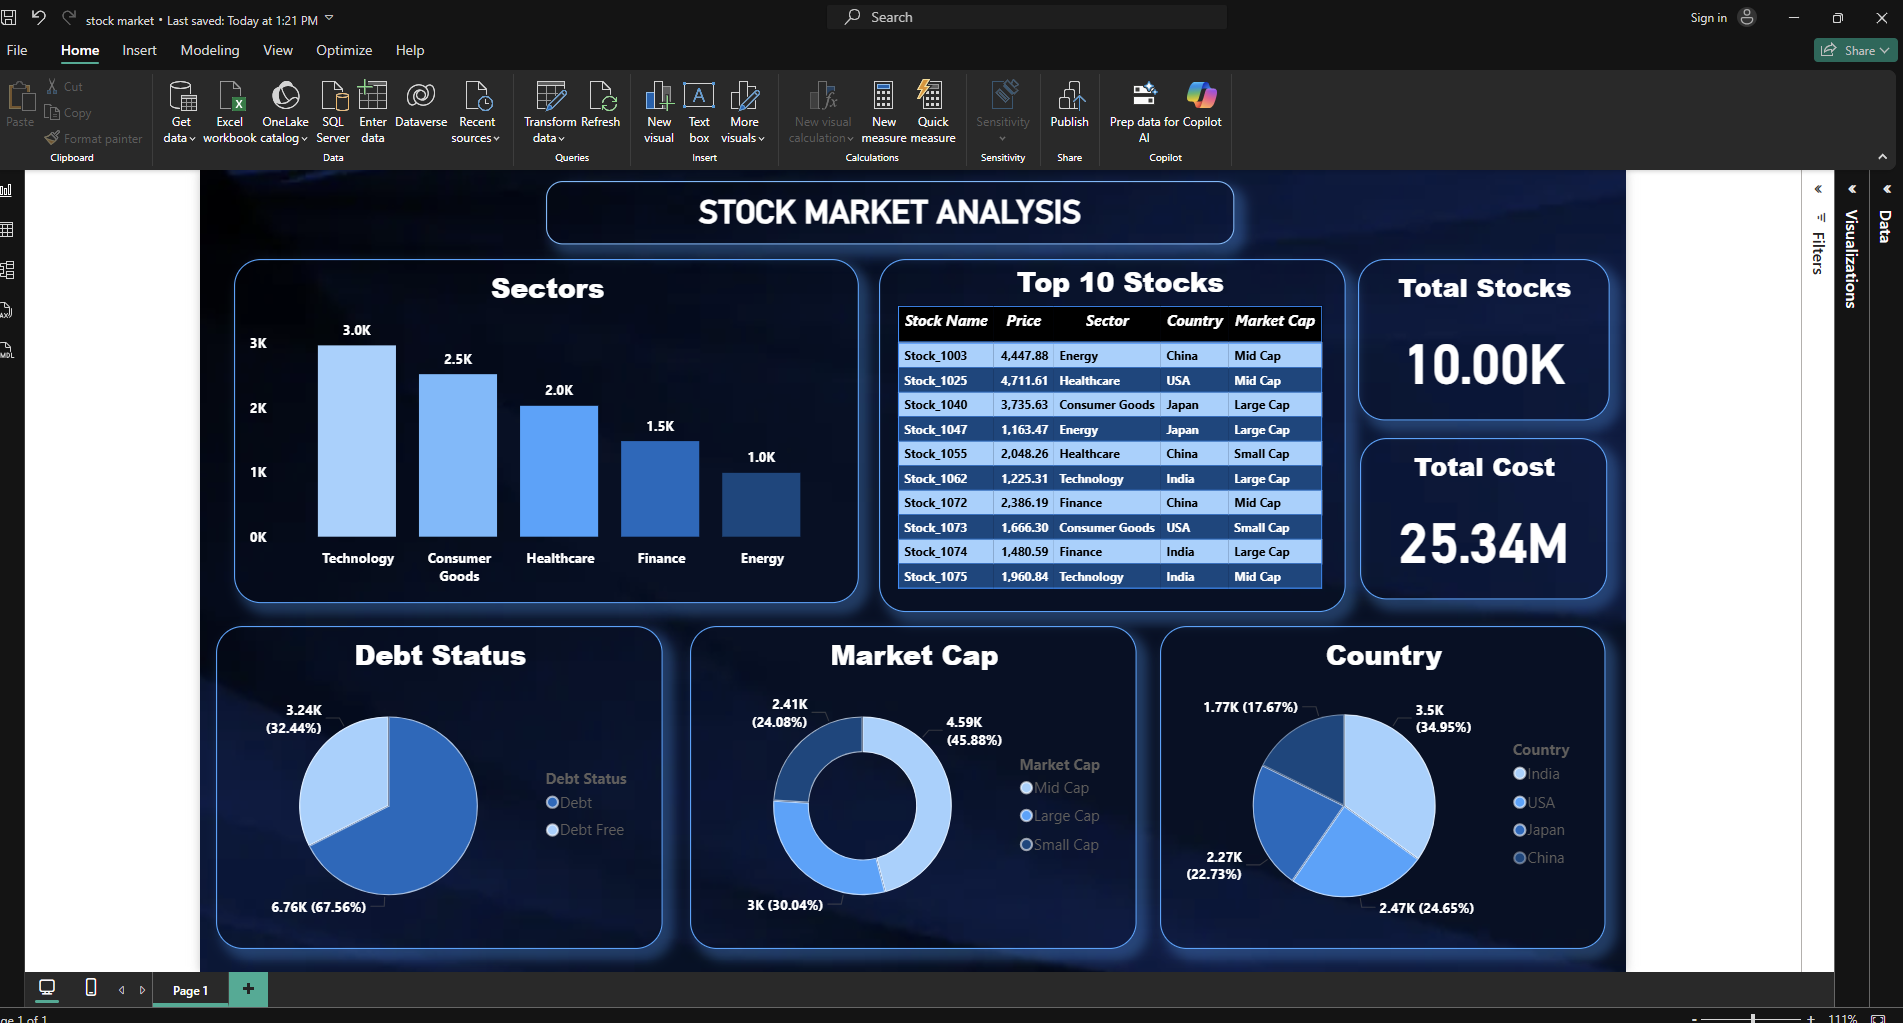

The dashboard page shown, as its layout file describes it:
{"tool":"powerbi","page":{"name":"Page 1","canvas":[1280,720],"ordinal":0},"visuals":[{"type":"columnChart","title":"Sectors","fields":{"Y":["CountNonNull(stock_market_dataset.Stock Name)"],"Category":["stock_market_dataset.Sector"]},"box":[30.2,79.8,561.2,309.3],"z":0},{"type":"pieChart","title":"Debt Status","fields":{"Category":["stock_market_dataset.Debt Status"],"Y":["CountNonNull(stock_market_dataset.Stock Name)"]},"box":[14.6,409.5,400.7,289.8],"z":1},{"type":"pieChart","title":" Country","fields":{"Category":["stock_market_dataset.Country"],"Y":["CountNonNull(stock_market_dataset.Stock Name)"]},"box":[861.8,409.5,399.8,289.8],"z":2},{"type":"donutChart","title":" Market Cap","fields":{"Category":["stock_market_dataset.Market Cap"],"Y":["CountNonNull(stock_market_dataset.Stock Name)"]},"box":[439.6,409.5,400.7,289.8],"z":3},{"type":"card","title":"Total  Stocks","fields":{"Values":["Count(stock_market_dataset.Stock Name)"]},"box":[1039.8,79.8,225.7,144.9],"z":4},{"type":"card","title":"Total  Cost","fields":{"Values":["Sum(stock_market_dataset.Price)"]},"box":[1041.7,240.2,221.8,144.9],"z":5},{"type":"tableEx","title":"Top 10 Stocks","fields":{"Values":["stock_market_dataset.Stock Name","stock_market_dataset.Price","stock_market_dataset.Sector","stock_market_dataset.Country","stock_market_dataset.Market Cap"]},"box":[609.8,79.8,419.2,317.1],"z":6},{"type":"textbox","box":[310.6,9.9,617.7,56.6],"z":7}]}

Visuals, with their boxes on the page's 1280x720 design canvas (x1, y1, x2, y2). These are canvas units, not pixel positions in the 1903x1023 screenshot, which may show the page scaled, cropped or inside an application window:
"Sectors" columnChart: region(30, 80, 591, 389)
"Debt Status" pieChart: region(15, 410, 415, 699)
" Country" pieChart: region(862, 410, 1262, 699)
" Market Cap" donutChart: region(440, 410, 840, 699)
"Total  Stocks" card: region(1040, 80, 1266, 225)
"Total  Cost" card: region(1042, 240, 1264, 385)
"Top 10 Stocks" tableEx: region(610, 80, 1029, 397)
textbox: region(311, 10, 928, 66)
